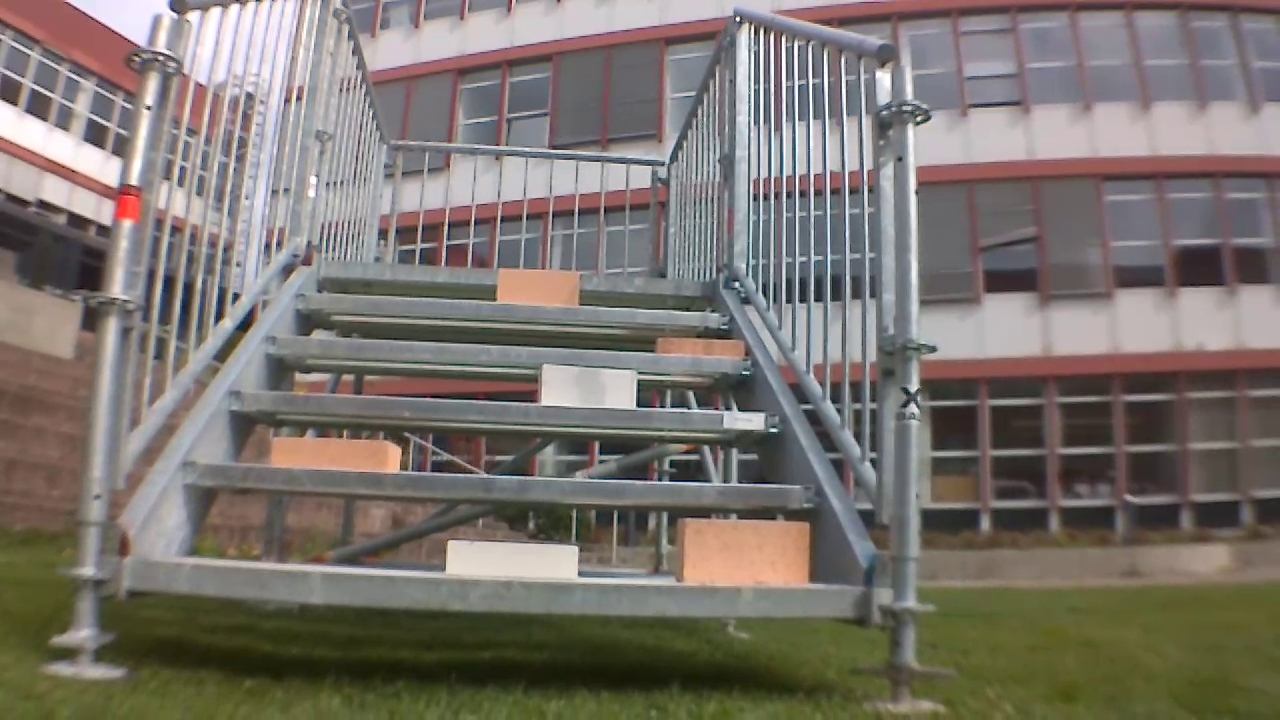brick: (671, 518, 814, 577), (439, 541, 579, 570), (490, 266, 583, 308), (536, 370, 639, 403), (266, 440, 401, 464), (651, 336, 744, 358)
edge: (124, 563, 867, 618), (181, 461, 815, 510), (231, 391, 780, 431), (298, 289, 731, 328), (268, 343, 751, 370), (314, 259, 716, 287)
stairs: (73, 6, 921, 641)
steps: (102, 263, 869, 599)
